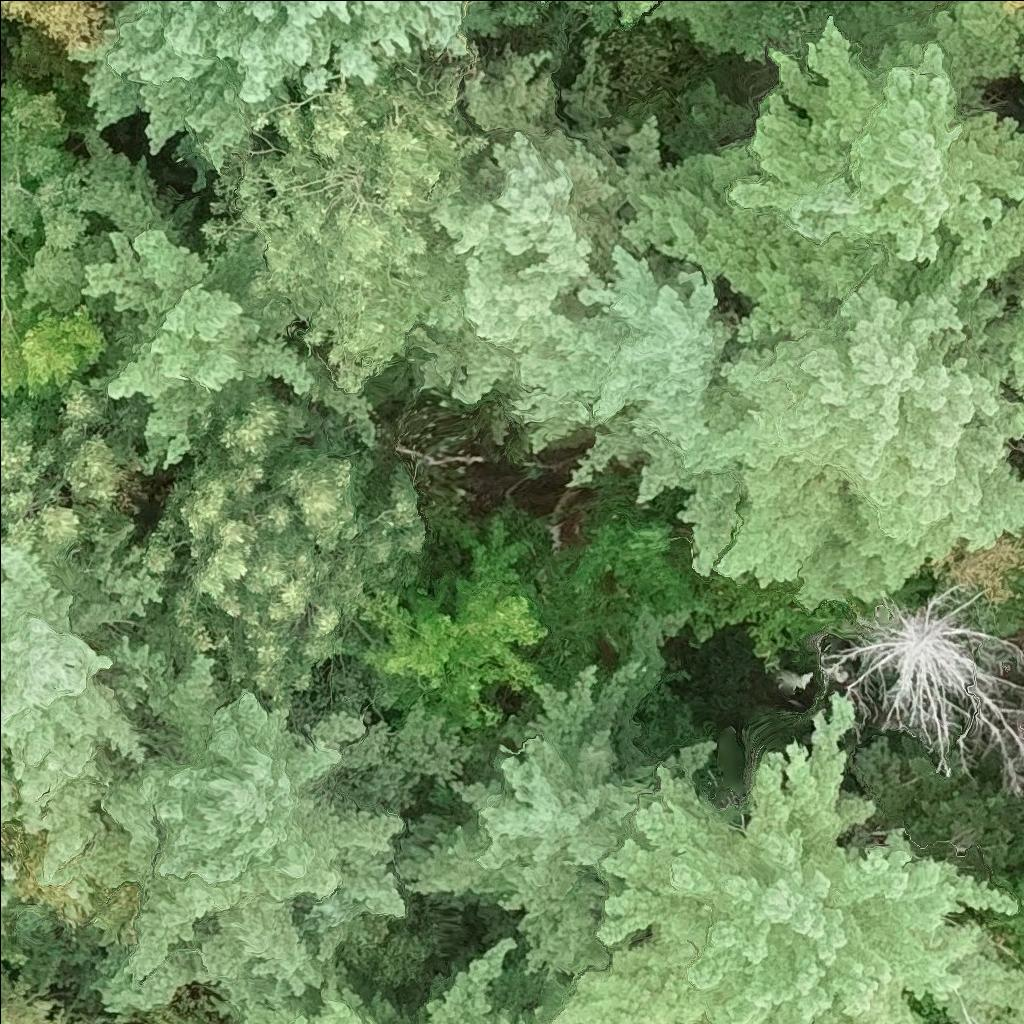crown: (551, 698, 1023, 1023), (17, 638, 408, 1011), (622, 15, 1023, 341), (682, 258, 1023, 612), (201, 39, 488, 392), (390, 667, 712, 979), (417, 68, 698, 407), (145, 399, 424, 706), (79, 231, 380, 465), (0, 82, 194, 443), (517, 250, 747, 498), (67, 0, 290, 190), (830, 588, 1023, 797), (0, 546, 144, 826), (168, 0, 490, 107), (0, 379, 133, 568), (40, 524, 197, 673), (643, 0, 940, 64), (245, 956, 404, 1023), (423, 940, 539, 1023), (952, 199, 1023, 299), (939, 879, 1023, 962), (0, 0, 134, 42), (149, 991, 250, 1023), (0, 1005, 91, 1023), (911, 994, 955, 1023), (598, 0, 656, 18), (1015, 319, 1023, 404)
